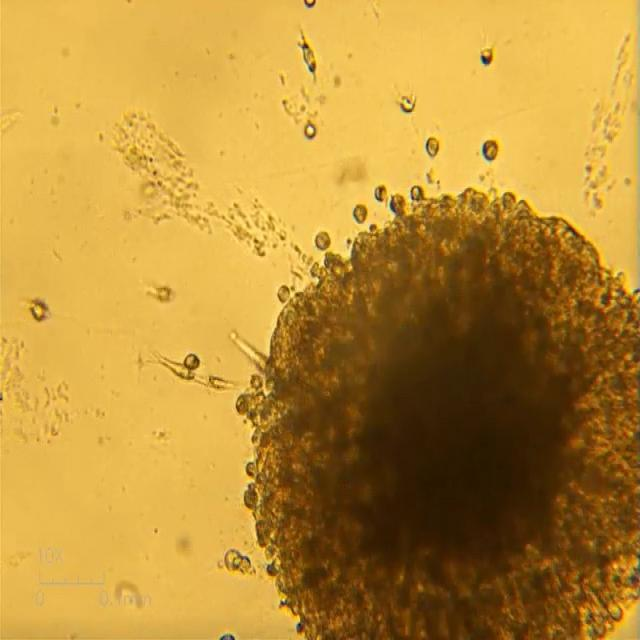cell: (224, 549, 250, 574), (167, 361, 196, 382), (301, 38, 315, 75), (207, 375, 235, 391), (31, 300, 49, 322), (481, 140, 498, 159), (351, 204, 365, 226), (315, 231, 330, 250), (155, 286, 174, 301), (302, 122, 318, 138), (276, 284, 290, 302), (401, 95, 416, 111), (184, 355, 201, 369), (480, 49, 495, 64), (373, 188, 389, 202), (428, 139, 439, 157), (302, 0, 321, 6), (219, 635, 238, 640)
tumor_mass: (231, 186, 640, 639)
